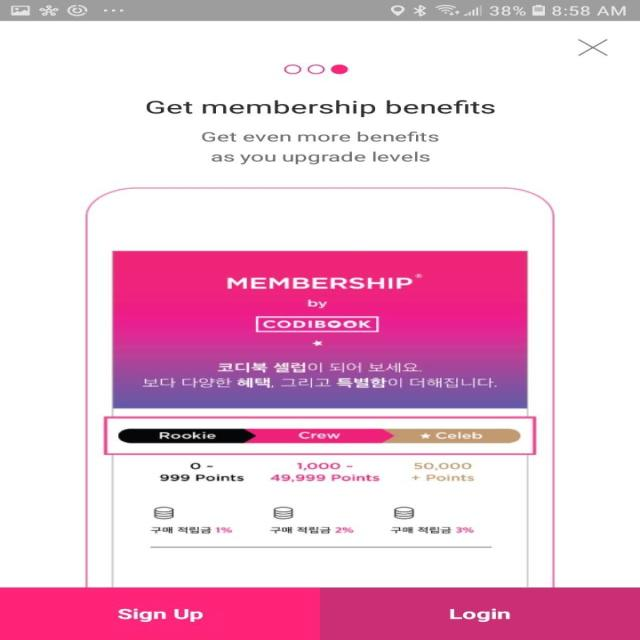Icon: (576, 38, 608, 56)
Image: (84, 187, 554, 587)
Text: (200, 131, 438, 165), (145, 100, 496, 118)
TextButton: (0, 587, 320, 640), (320, 587, 639, 640)
